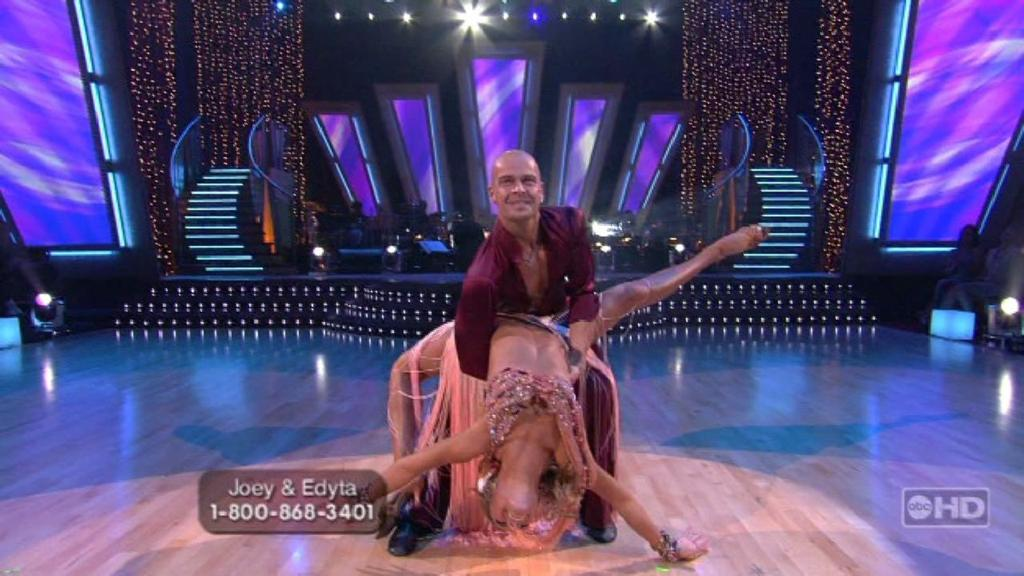face: (492, 154, 539, 218), (488, 503, 538, 534)
